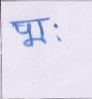anusvara: (54, 24, 57, 28)
